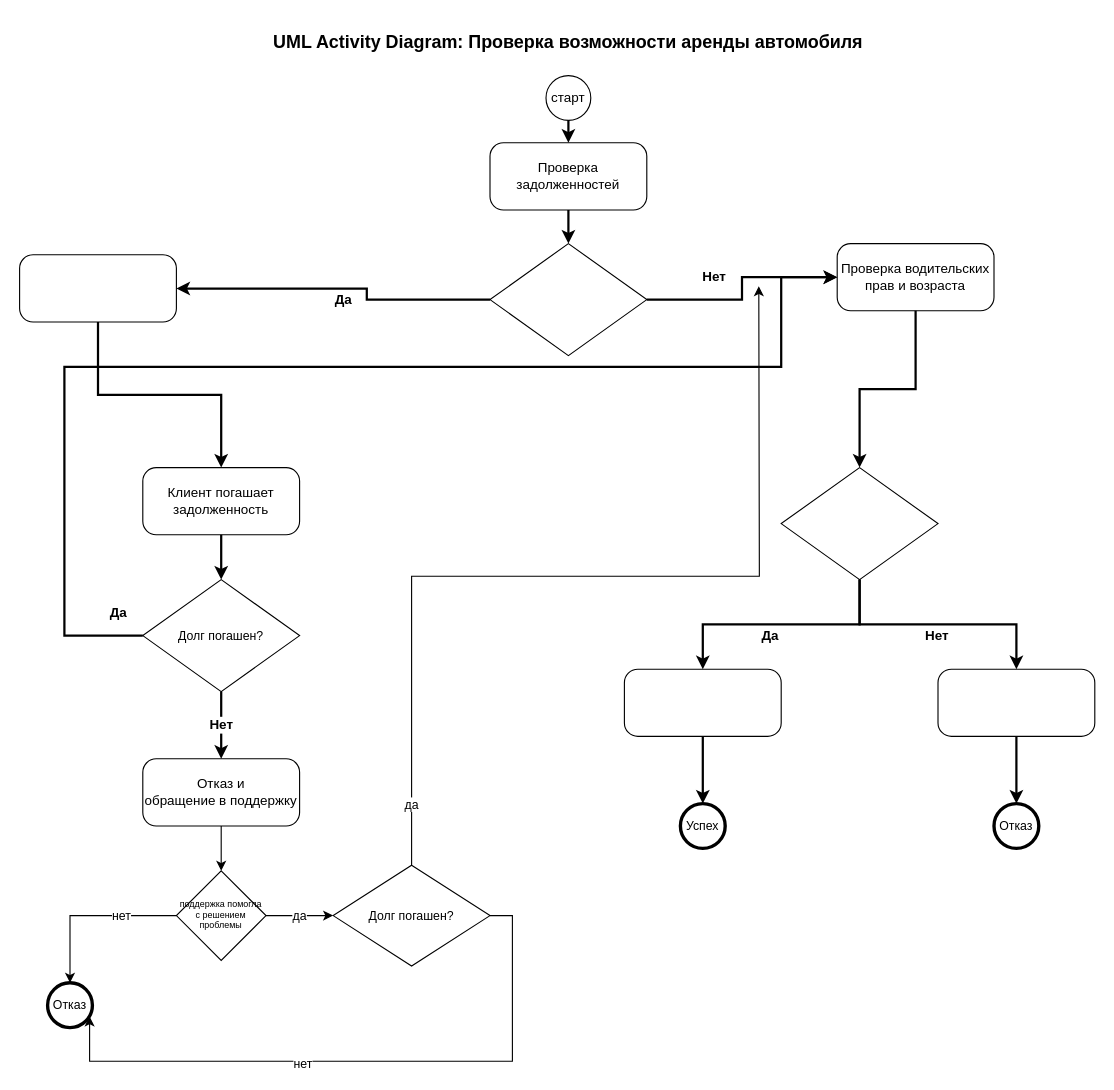
Image size: 1114x1090. Some labels were removed from this diagram. Each missing label, with the centre of its shape:
Есть задолженность?: (568,299)
Отказ в аренде: (1016,702)
Права валидны?: (859,523)
Разрешить аренду: (702,702)
Уведомление о задолженности: (97,288)
